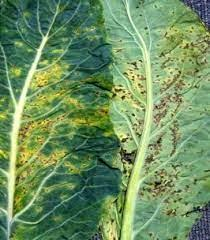Bok-Choy-Diseased: (3, 0, 118, 240), (106, 0, 210, 240)
